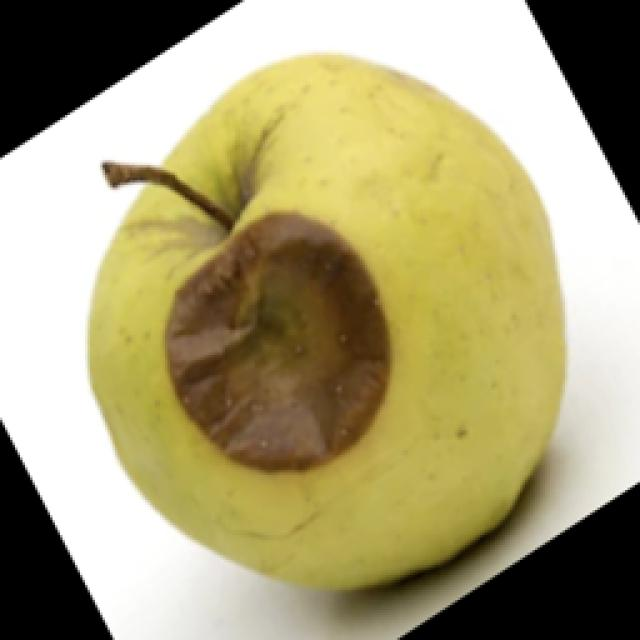Rotten_Apple: (17, 30, 634, 631)
